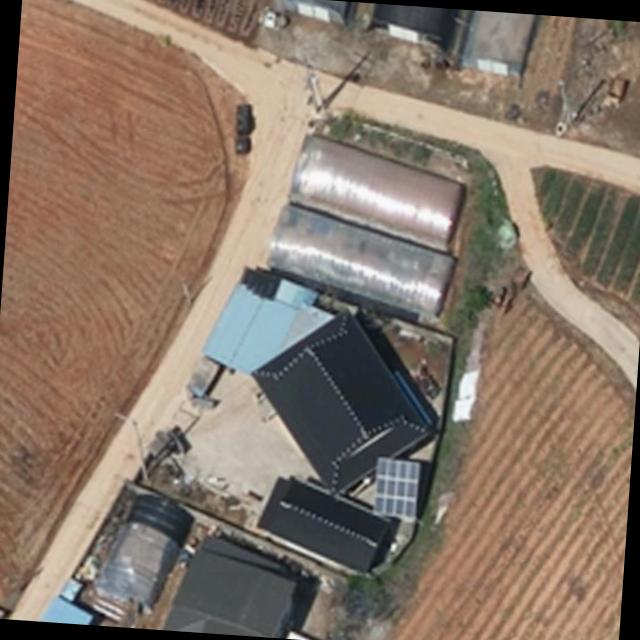solar: (370, 452, 424, 520)
